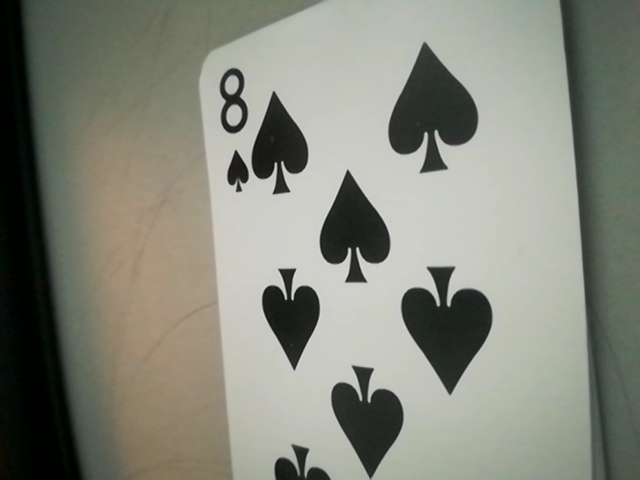ht 8: (205, 55, 271, 201)
